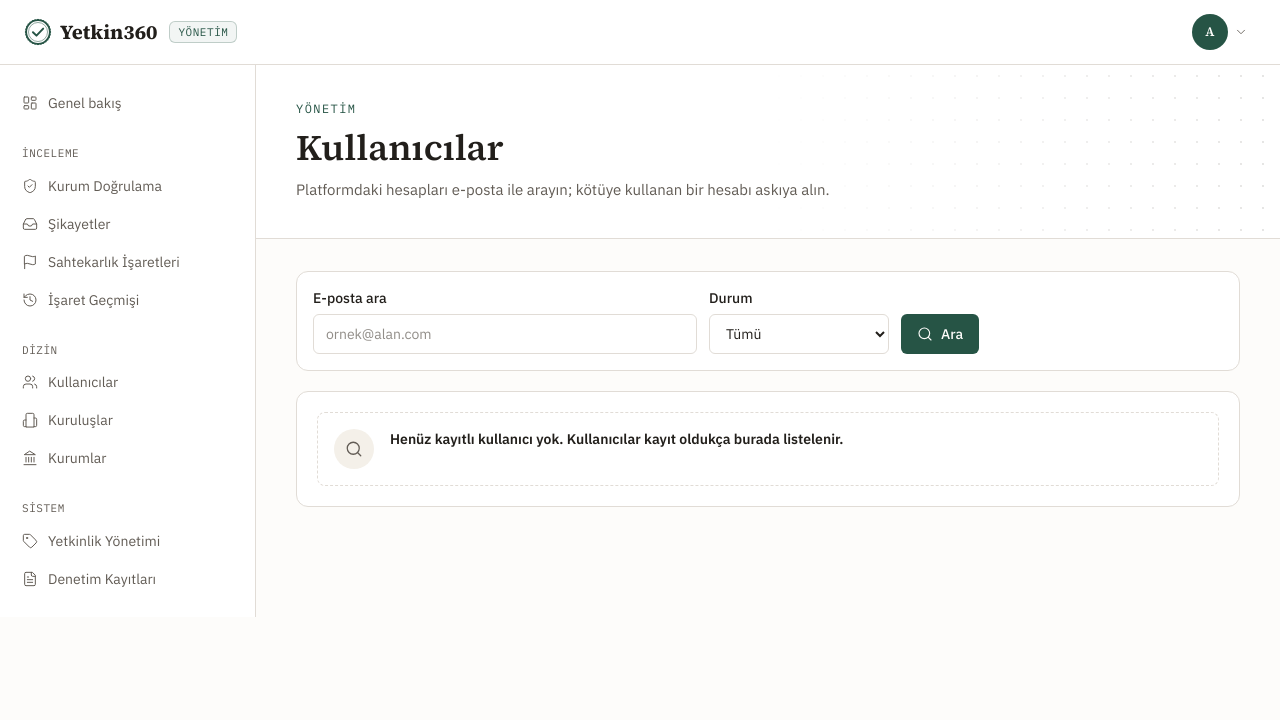
Scenario: KullanicilarPage (/admin/kullanicilar) › searches with the typed term from the first page
Expected: the text "Henüz kayıtlı kullanıcı yok. Kullanıcılar kayıt oldukça burada listelenir." is shown, [390,429,844,449]
In the search field labelled "E-posta ara": {"x": 505, "y": 334} [313,314,697,354], type "ali"
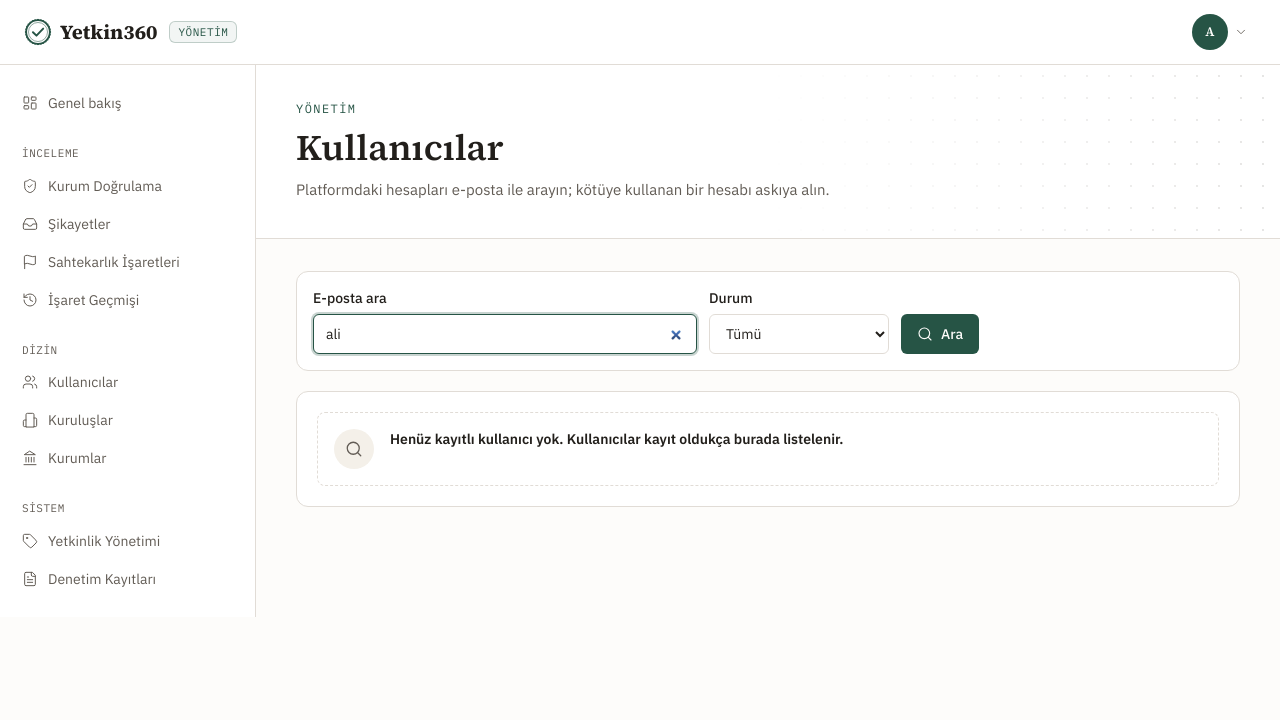
Click the button "Ara": {"x": 940, "y": 334} [901,314,979,354]
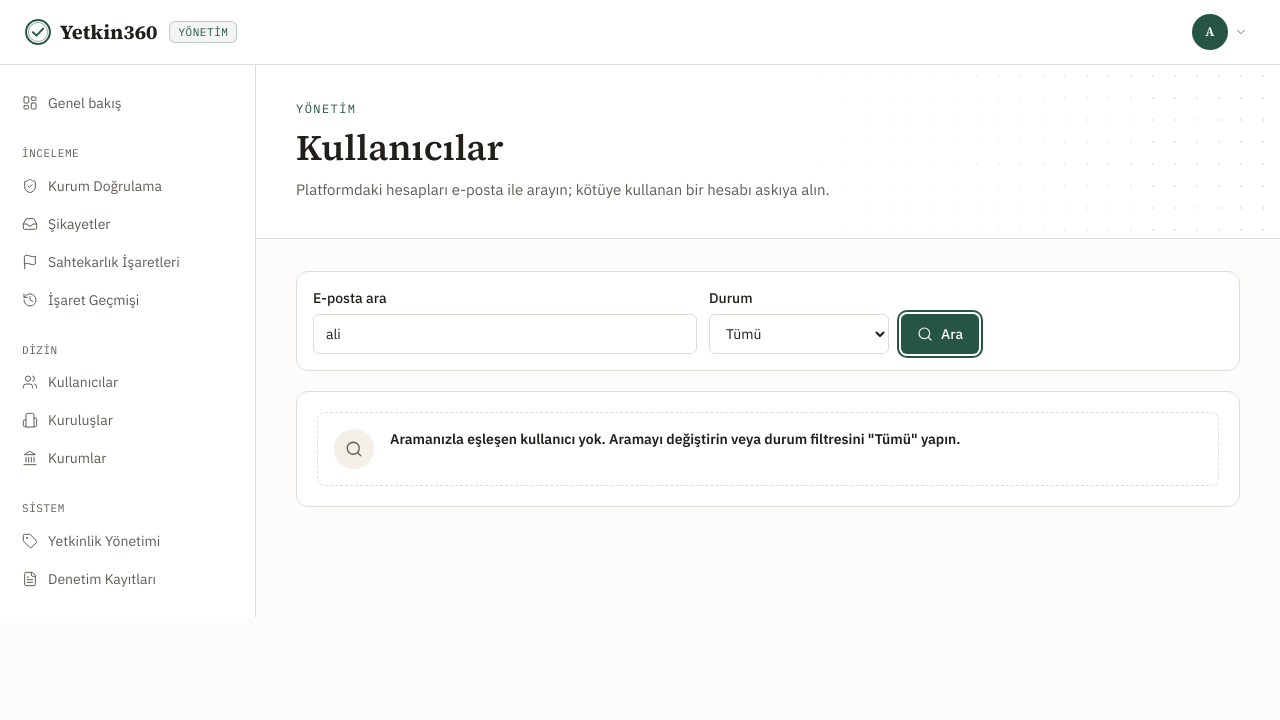
Result: the text "Aramanızla eşleşen kullanıcı yok. Aramayı değiştirin veya durum filtresini \"Tümü\" yapın." is shown at [390,430,960,448]
